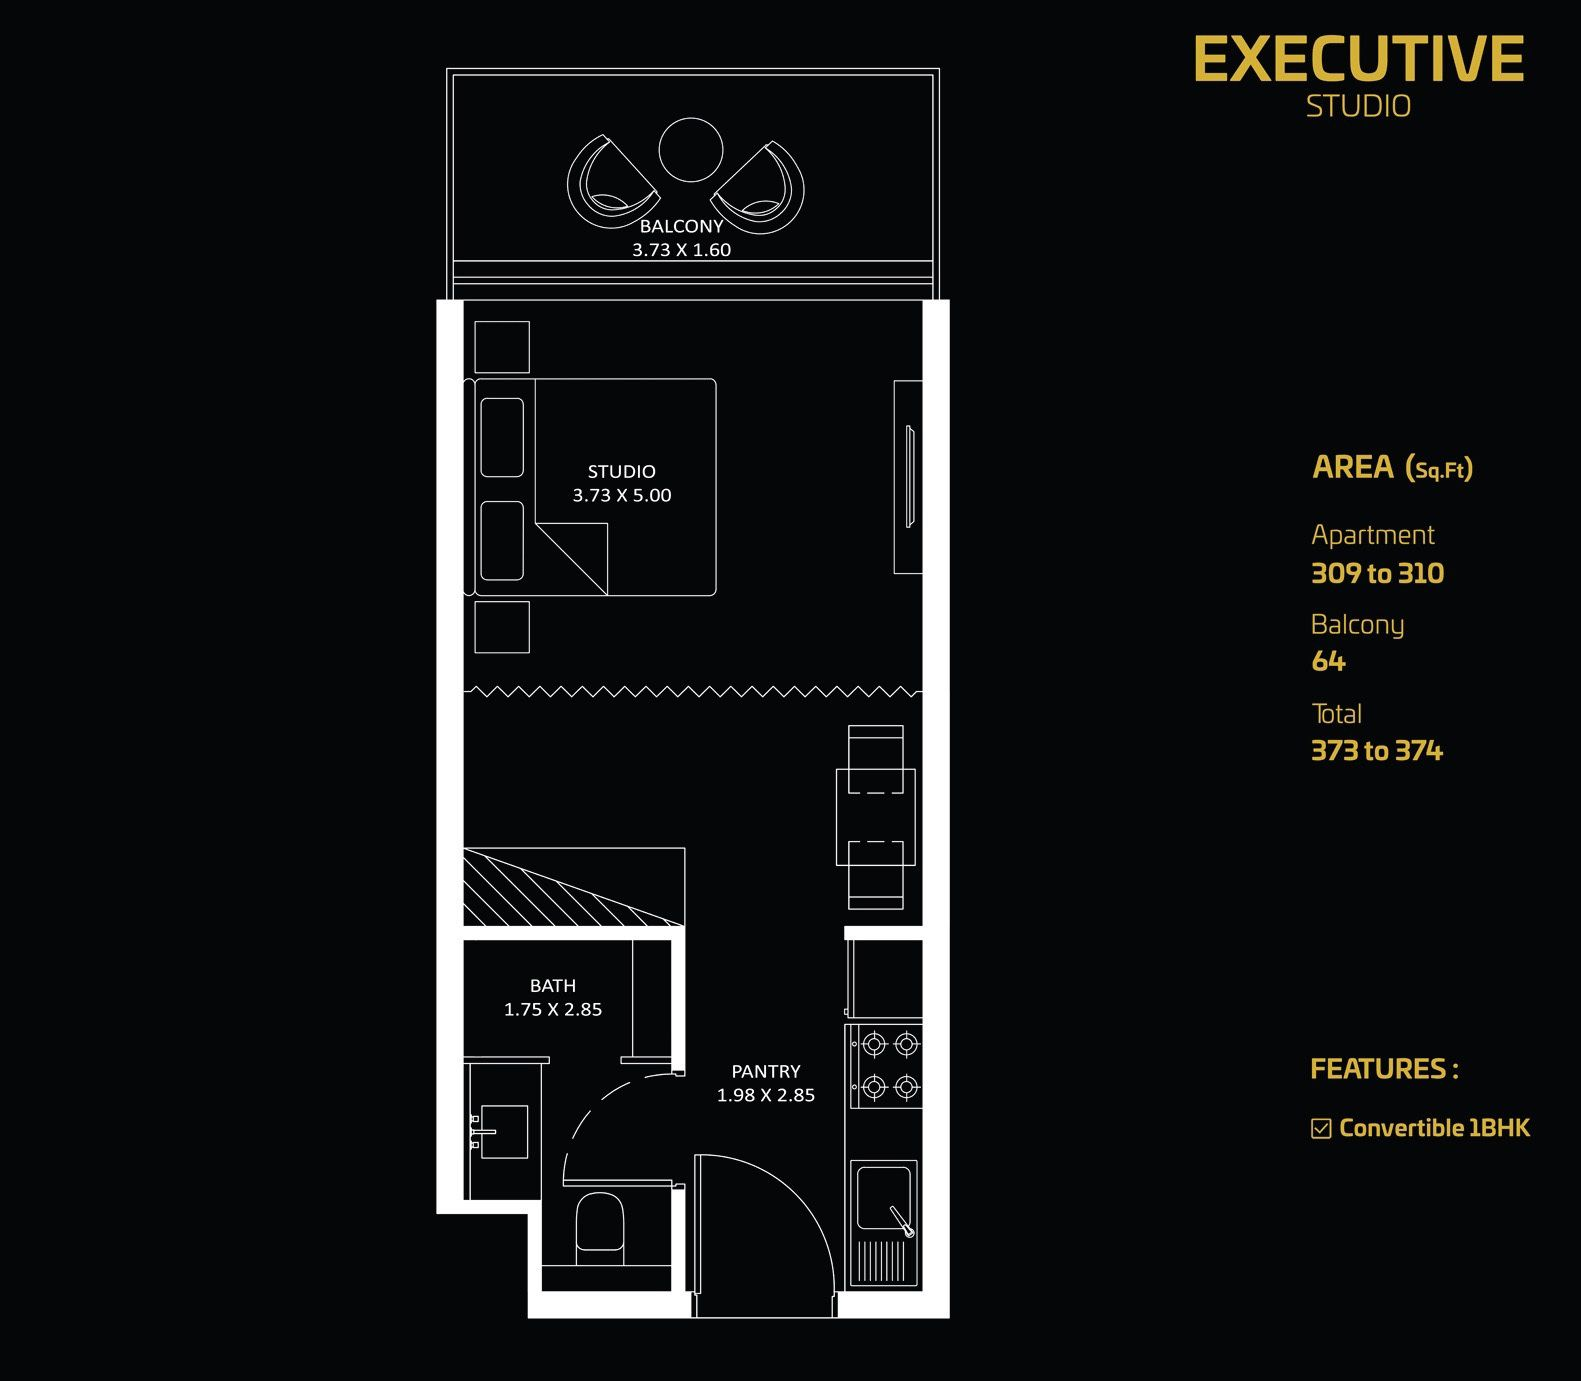door: (691, 1150, 842, 1306), (559, 1064, 682, 1191)
